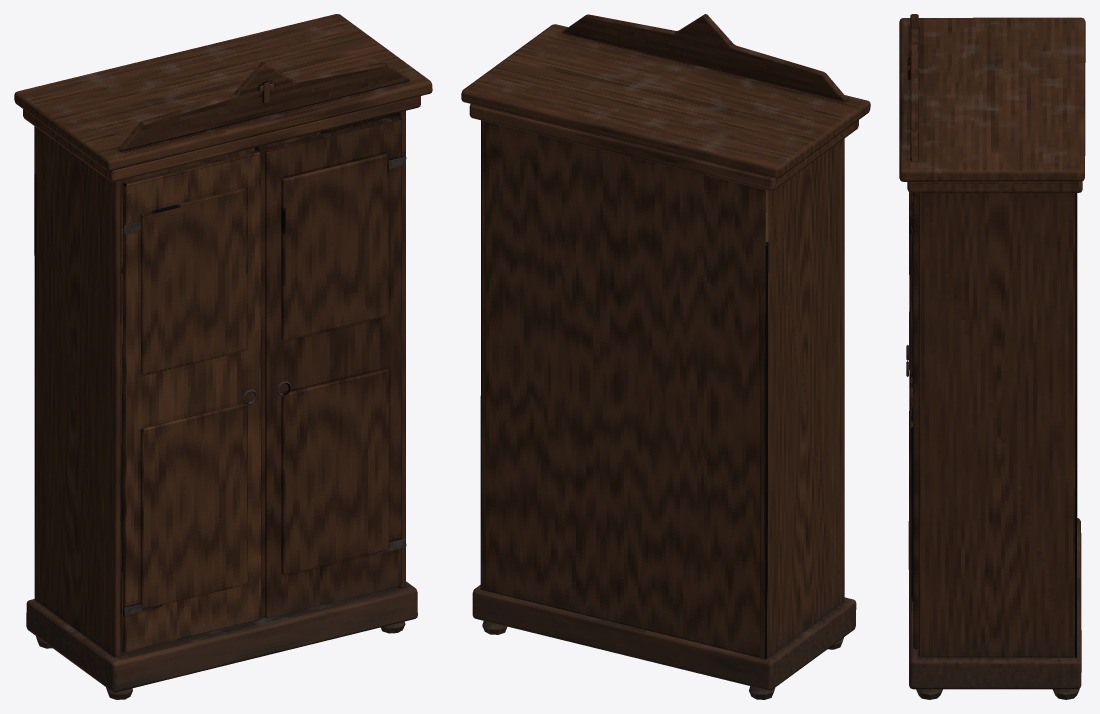
File: wardrobe.glb
3 renders of one model, left to right at view 1: azimuth 30°, elevation 25°; view 2: azimuth 150°, elevation 25°; view 3: azimuth 270°, elevation 25°, orthographic. The views are drawn at different scales.
Parts seen in each view (by area): view 1: Wardrobe, WardrobeDoorL, WardrobeDoorR; view 2: Wardrobe; view 3: Wardrobe, WardrobeDoorR.
Part boxes in pixels (<box>): Wardrobe: <box>14,14,432,699</box>; WardrobeDoorL: <box>122,150,261,652</box>; WardrobeDoorR: <box>265,115,406,618</box>; Wardrobe: <box>461,14,870,699</box>; Wardrobe: <box>899,14,1085,699</box>; WardrobeDoorR: <box>906,192,918,648</box>.
Size of the model in its own units: 1.34 by 2.38 by 0.6819.
Materials: 1 (1 with a texture image).
